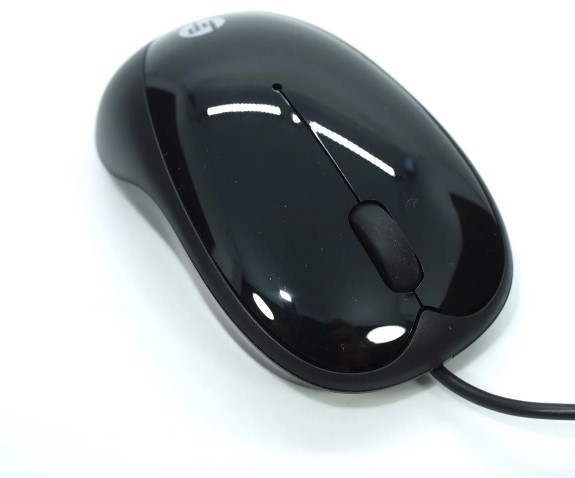hp-mouse-X1000: (89, 10, 561, 428)
